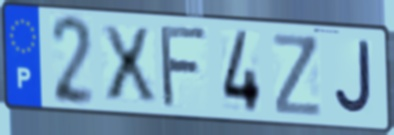2: (48, 11, 97, 110)
4: (220, 28, 264, 116)
F: (158, 24, 211, 110)
J: (332, 38, 376, 119)
X: (98, 23, 159, 104)
Z: (270, 31, 325, 120)
